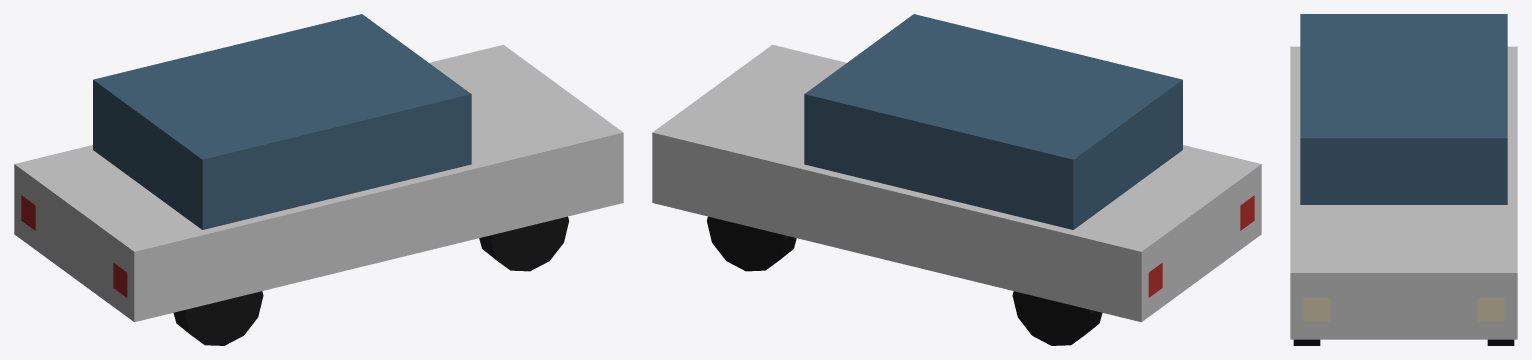
The model's file is car.obj.
The picture shows the model from 3 angles, left to right: view 1: azimuth 30°, elevation 25°; view 2: azimuth 150°, elevation 25°; view 3: azimuth 270°, elevation 25°; orthographic projection. The views are drawn at different scales.
Bounding box in the file's own units: 4 × 1.47 × 1.7.
